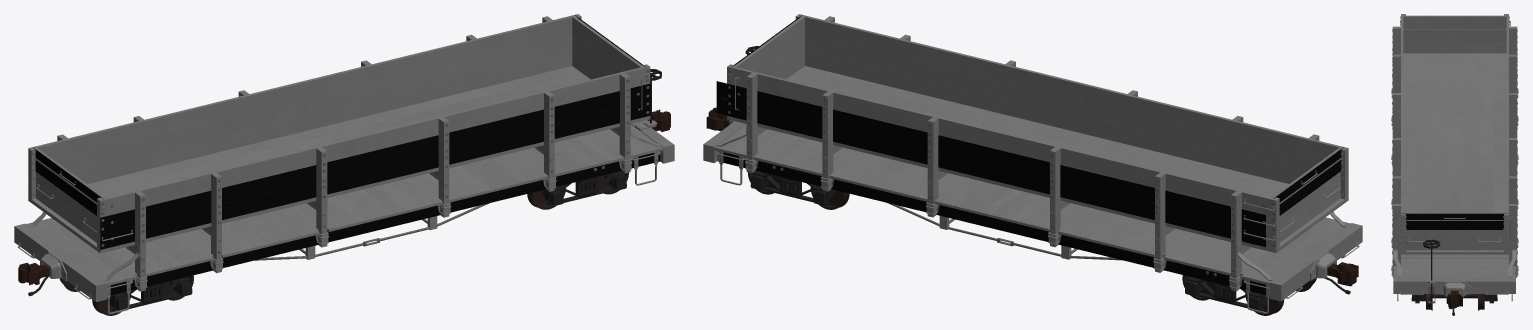
File: drgw_rail_and_tie_outfit.obj
3 views of the same model, side by side, from view 1: azimuth 30°, elevation 25°; view 2: azimuth 150°, elevation 25°; view 3: azimuth 270°, elevation 25° (orthographic). The views are drawn at different scales.
Visible parts, largest first — view 1: FRAME.010_FRAME_Cube.040, FRAME.002_FRAME_Cube.001, SHELL_Cylinder, FRAME_FRAME_Cube.060, BOGEY_FRONT_BOGEY_FRONT_Cube.003, BOGEY_REAR_BOGEY_REAR_Cube.016, FRAME.022_FRAME_Cube.032, SHELL.001_Cube.001, Cylinder.014_Cylinder.027, Coupler_Front_Coupler_Front_Cube.000; view 2: FRAME.010_FRAME_Cube.040, FRAME.002_FRAME_Cube.001, SHELL_Cylinder, FRAME_FRAME_Cube.060, BOGEY_FRONT_BOGEY_FRONT_Cube.003, BOGEY_REAR_BOGEY_REAR_Cube.016, FRAME.022_FRAME_Cube.032, SHELL.001_Cube.001, Cylinder.014_Cylinder.027, Coupler_Front_Coupler_Front_Cube.000; view 3: FRAME.010_FRAME_Cube.040, SHELL_Cylinder, FRAME_FRAME_Cube.060, FRAME.002_FRAME_Cube.001, BOGEY_FRONT_WHEEL_1_BOGEY_FRONT_WHEEL_1_Cube.005, Cube.189_Cube.215, Cylinder.014_Cylinder.027, Coupler_Rear_Coupler_Front.001_Cube.101, FRAME.022_FRAME_Cube.032, BOGEY_FRONT_BOGEY_FRONT_Cube.003, SHELL.001_Cube.000_SHELL.001_Cube.002, SHELL.001_Cube.001 (+1 smaller).
Boxes of the visible parts, <box> form: FRAME.010_FRAME_Cube.040: <box>28,14,660,291</box>; FRAME.002_FRAME_Cube.001: <box>33,15,660,295</box>; SHELL_Cylinder: <box>26,124,663,285</box>; FRAME_FRAME_Cube.060: <box>14,120,674,301</box>; BOGEY_FRONT_BOGEY_FRONT_Cube.003: <box>544,171,626,206</box>; BOGEY_REAR_BOGEY_REAR_Cube.016: <box>109,277,192,311</box>; FRAME.022_FRAME_Cube.032: <box>134,158,632,289</box>; SHELL.001_Cube.001: <box>17,151,660,314</box>; Cylinder.014_Cylinder.027: <box>32,69,649,272</box>; Coupler_Front_Coupler_Front_Cube.000: <box>18,262,49,285</box>; FRAME.010_FRAME_Cube.040: <box>716,14,1348,291</box>; FRAME.002_FRAME_Cube.001: <box>716,15,1343,294</box>; SHELL_Cylinder: <box>714,124,1350,285</box>; FRAME_FRAME_Cube.060: <box>703,120,1362,301</box>; BOGEY_FRONT_BOGEY_FRONT_Cube.003: <box>750,171,833,205</box>; BOGEY_REAR_BOGEY_REAR_Cube.016: <box>1185,276,1267,310</box>; FRAME.022_FRAME_Cube.032: <box>745,158,1242,288</box>; SHELL.001_Cube.001: <box>716,150,1359,313</box>; Cylinder.014_Cylinder.027: <box>728,69,1343,271</box>; Coupler_Front_Coupler_Front_Cube.000: <box>1327,262,1358,286</box>; FRAME.010_FRAME_Cube.040: <box>1392,14,1517,277</box>; SHELL_Cylinder: <box>1393,254,1515,277</box>; FRAME_FRAME_Cube.060: <box>1393,277,1515,297</box>; FRAME.002_FRAME_Cube.001: <box>1402,213,1507,229</box>; BOGEY_FRONT_WHEEL_1_BOGEY_FRONT_WHEEL_1_Cube.005: <box>1426,294,1484,310</box>; Cube.189_Cube.215: <box>1423,239,1440,307</box>; Cylinder.014_Cylinder.027: <box>1392,16,1517,262</box>; Coupler_Rear_Coupler_Front.001_Cube.101: <box>1446,290,1462,309</box>; FRAME.022_FRAME_Cube.032: <box>1391,88,1518,275</box>; BOGEY_FRONT_BOGEY_FRONT_Cube.003: <box>1411,294,1497,303</box>; SHELL.001_Cube.000_SHELL.001_Cube.002: <box>1399,19,1510,241</box>; SHELL.001_Cube.001: <box>1397,291,1512,301</box>.
Bounding box in the file's own units: 31.59 × 6.35 × 7.18.
Materials: 5 (4 with a texture image).
